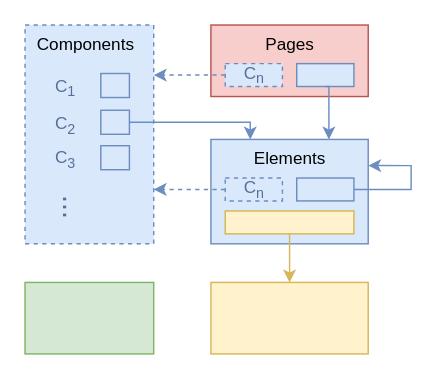
Image size: 448x379. Some labels were removed from this diagram. Here are the shapes that lost their labels. From the top down, the centre of each, then its label:
[89,317]: Styles
[288,317]: Text
